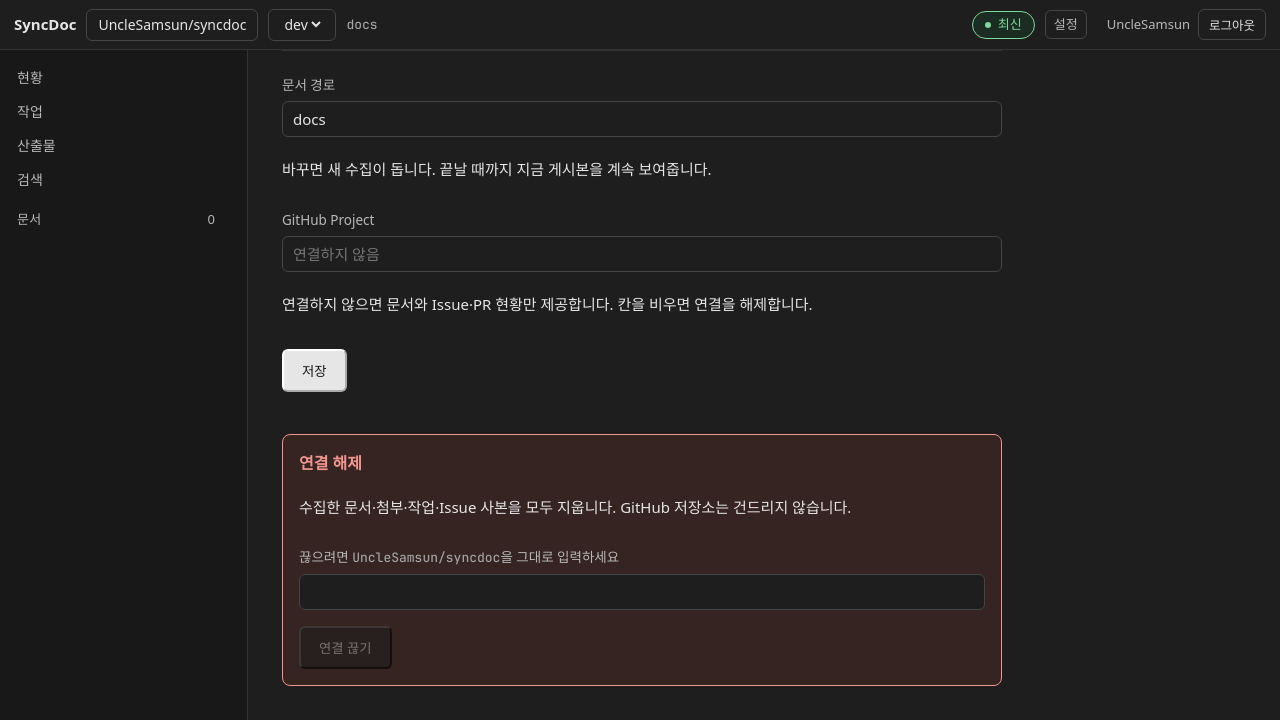
UI-015 연결 설정 › will not disconnect until the name matches exactly
(page scrolled)
expect the button "연결 끊기" is disabled: met, box [299,626,392,668]
Type "UncleSamsun/다른것" into the field labelled "그대로 입력하세요". click: (642, 592)
box: [299,574,985,610]
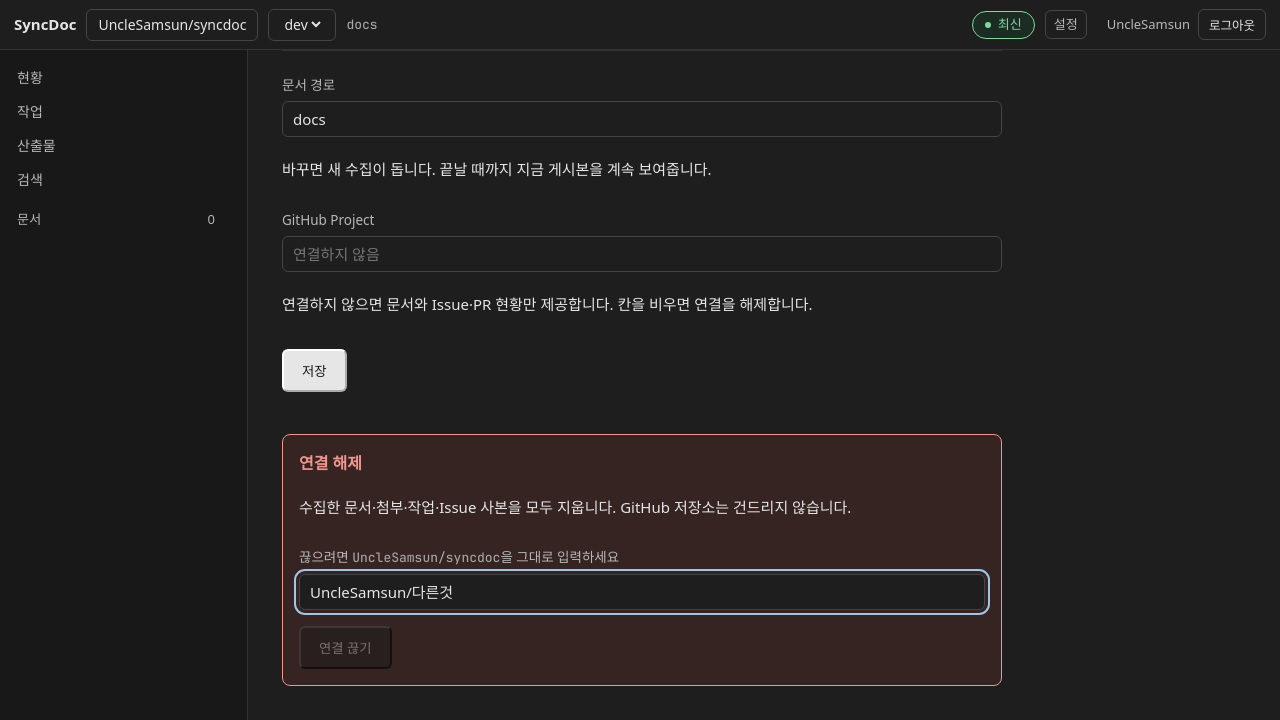
expect the button "연결 끊기" is disabled: met, box [299,626,392,668]
Replace the text in the field labelled "그대로 입력하세요" with "UncleSamsun/syncdoc". click: (642, 592)
box: [299,574,985,610]
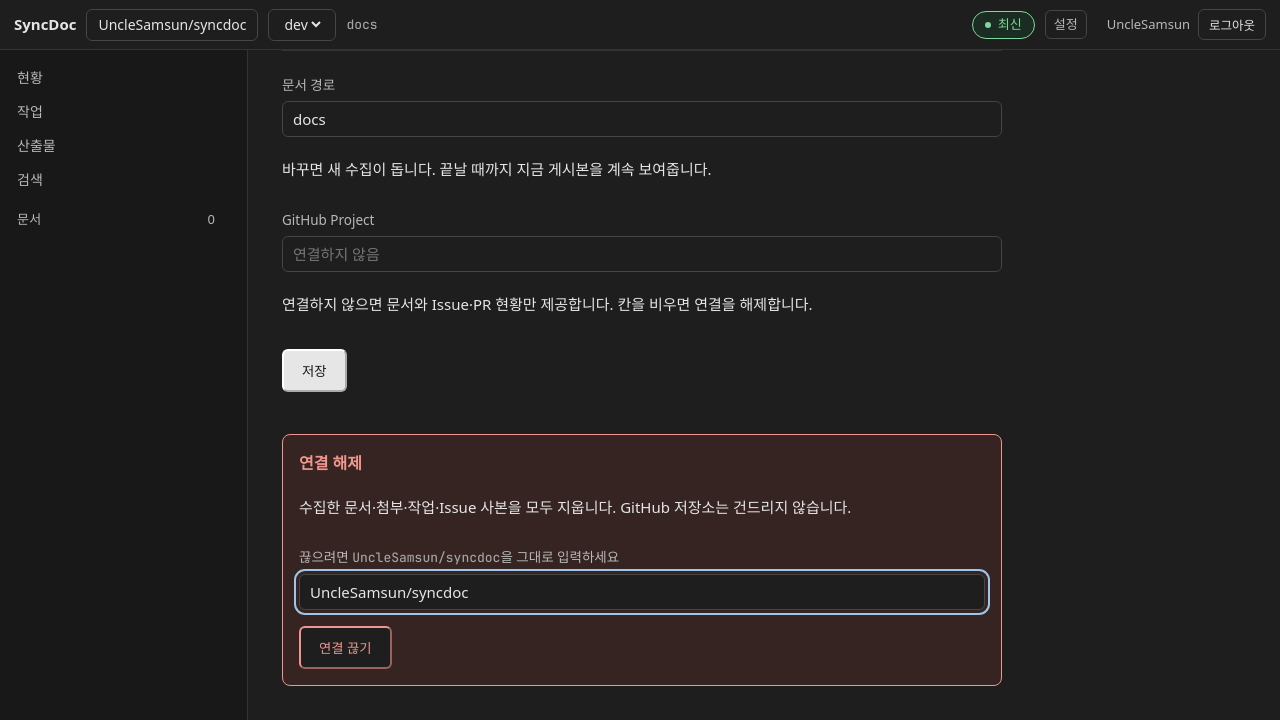
expect the button "연결 끊기" is enabled: met, box [299,626,392,668]
